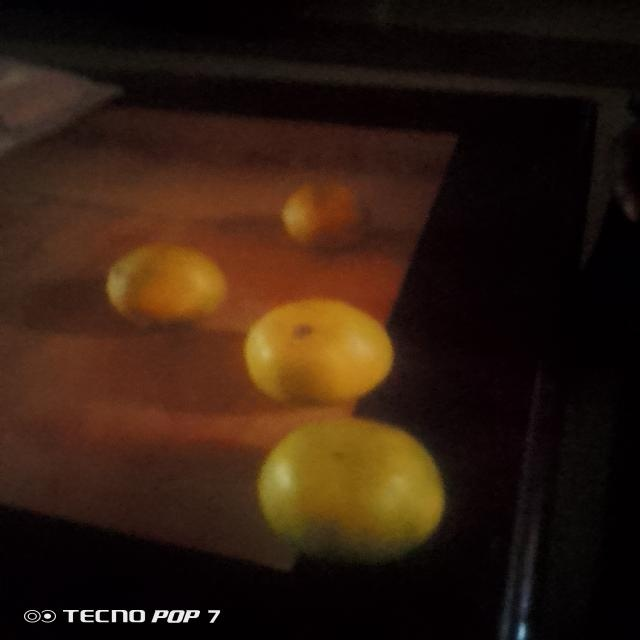agrume: (251, 422, 439, 562), (243, 294, 405, 406), (97, 239, 222, 329), (266, 169, 382, 263)
